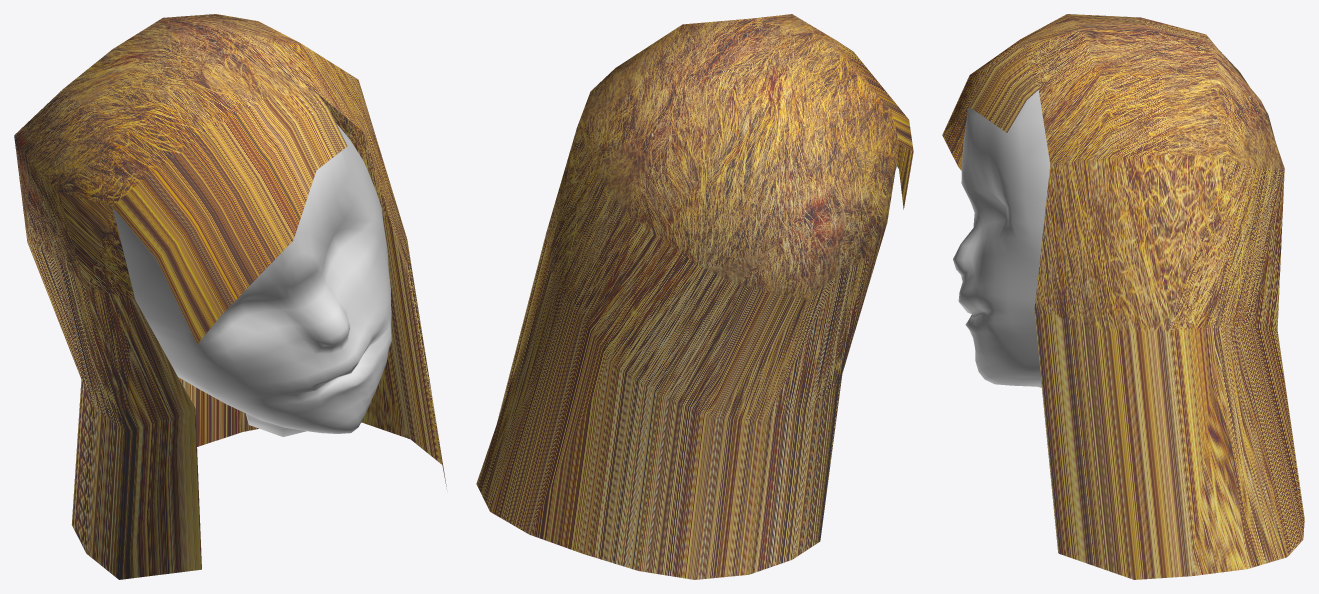
The model's file is SM_A_Girl00_Head00.fbx.
The picture shows the model from 3 angles, left to right: view 1: azimuth 30°, elevation 25°; view 2: azimuth 150°, elevation 25°; view 3: azimuth 270°, elevation 25°; orthographic projection. The views are drawn at different scales.
Parts seen in each view (by area): view 1: SM_A_Girl00_Head00; view 2: SM_A_Girl00_Head00; view 3: SM_A_Girl00_Head00.
Part boxes in pixels (box(x1,y1,x2,y2)): SM_A_Girl00_Head00: box(14, 14, 447, 579); SM_A_Girl00_Head00: box(476, 14, 913, 579); SM_A_Girl00_Head00: box(942, 14, 1304, 579).
Bounding box in the file's own units: 49.35 × 63.03 × 43.46.
